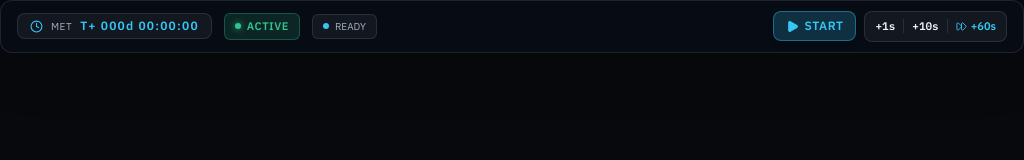
Test: Phase 6.2 Live Mission Dashboard Verification › 2. Simulation Control Stepping & State Transition › advances MET deterministically by 1 SI second when clicking +1s
Expected: the text "T+ 000d 00:00:00" is shown, x1=80 y1=18 x2=199 y2=34
Click the button "+1s" at x=885, y=26, box x1=868 y1=14 x2=903 y2=38
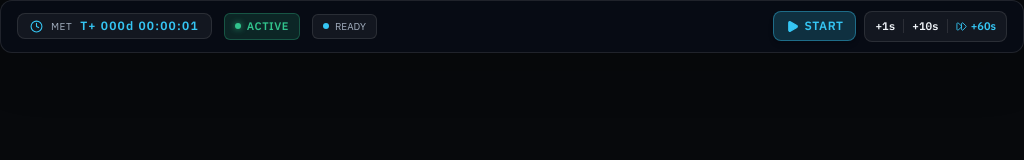
Expected: the text "T+ 000d 00:00:01" is shown, x1=80 y1=18 x2=199 y2=34
